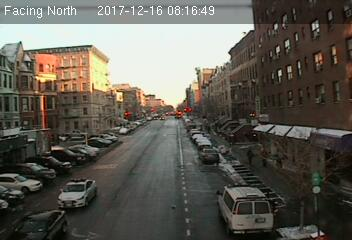car: (200, 148, 219, 163)
pedestrian: (247, 148, 256, 166)
police: (214, 181, 277, 235), (55, 177, 99, 211)
